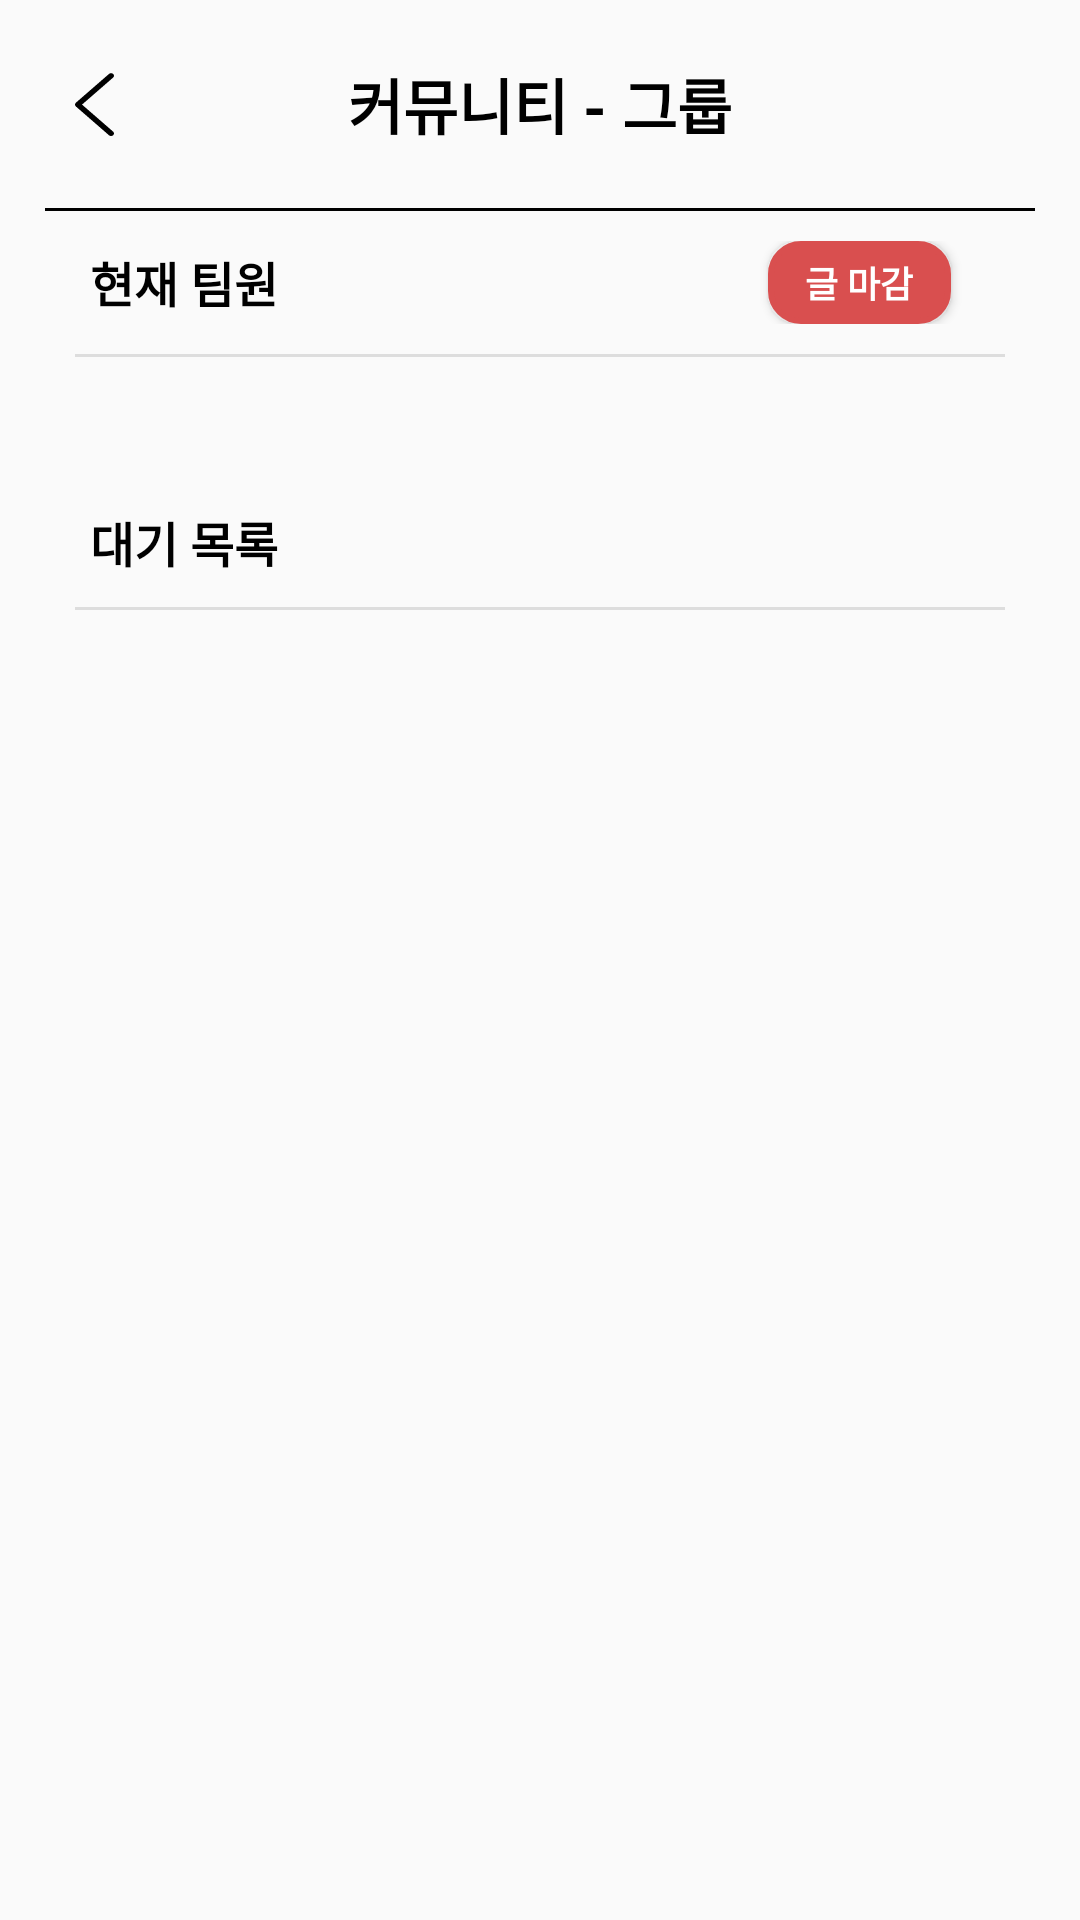

Where icons sit on this 1080px x 1920px app screen, as (x1, y1, x2, y2):
before: (75, 73, 114, 136)
